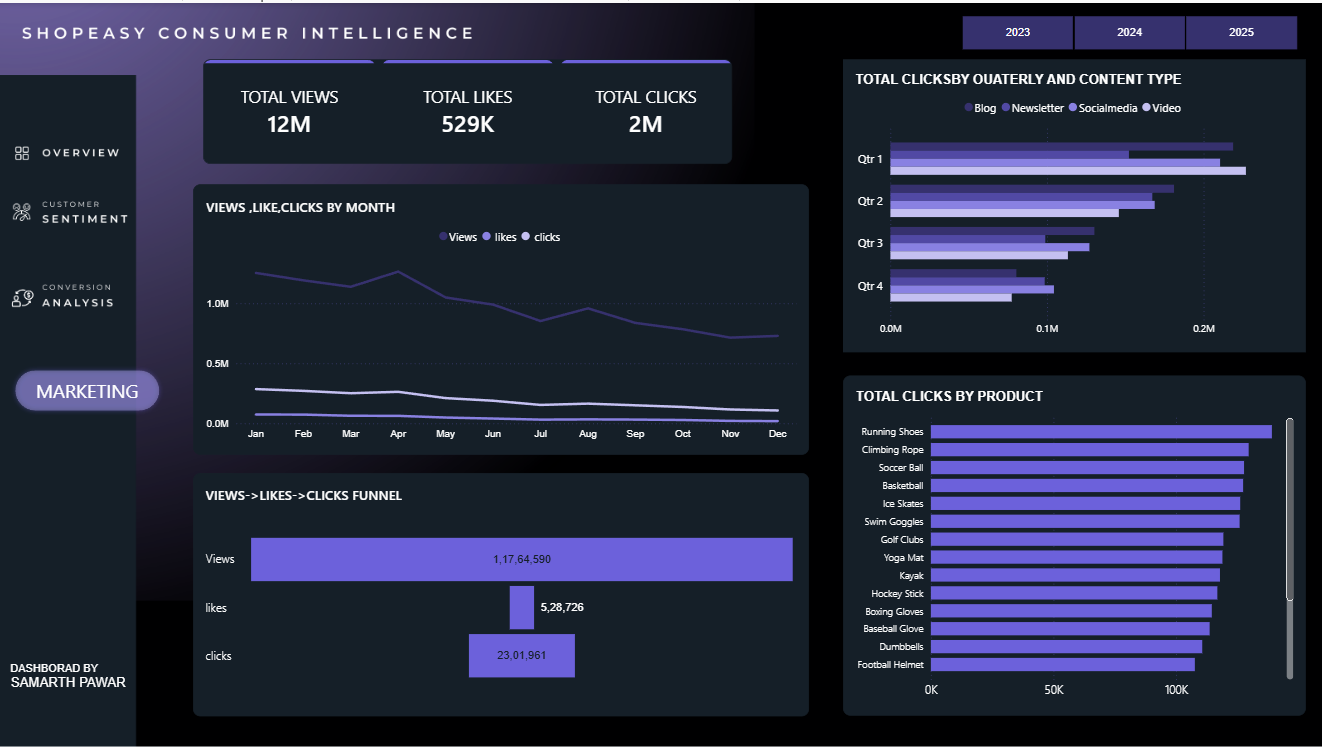

The page's visual inventory and layout, read from the dashboard file:
{"tool":"powerbi","page":{"name":"Marketing Performance","canvas":[1600,900],"ordinal":3},"visuals":[{"type":"shape","box":[235,566.7,743.3,293.3],"z":0},{"type":"cardVisual","fields":{"Data":["Sum(engagement_data_cleaned.Views)","Sum(engagement_data_cleaned.likes)","Sum(engagement_data_cleaned.clicks)"]},"box":[246.7,68.3,638.3,126.7],"z":1000},{"type":"lineChart","title":"VIEWS ,LIKE,CLICKS BY MONTH","fields":{"Y":["Sum(engagement_data_cleaned.Views)","Sum(engagement_data_cleaned.likes)","Sum(engagement_data_cleaned.clicks)"],"Category":["Calendar.MonthNameShort"]},"box":[235,218.3,743.3,326.7],"z":2000},{"type":"funnel","title":"VIEWS->LIKES->CLICKS FUNNEL","fields":{"Y":["Sum(engagement_data_cleaned.Views)","Sum(engagement_data_cleaned.likes)","Sum(engagement_data_cleaned.clicks)"]},"box":[235,566.7,743.3,293.3],"z":3000},{"type":"barChart","title":"TOTAL CLICKS BY PRODUCT","fields":{"Y":["Sum(engagement_data_cleaned.clicks)"],"Category":["products.ProductName"]},"box":[1020,450,558.3,410],"z":4000},{"type":"clusteredBarChart","title":"TOTAL CLICKSBY OUATERLY AND CONTENT TYPE ","fields":{"Category":["Calendar.Date.Variation.Date Hierarchy.Quarter"],"Y":["Sum(engagement_data_cleaned.clicks)"],"Series":["engagement_data_cleaned.ContentType"]},"box":[1020,68.3,558.3,353.3],"z":5000},{"type":"shape","box":[0,416.7,158.3,150],"z":6000},{"type":"shape","box":[0,421.7,215,90],"z":7000},{"type":"pageNavigator","box":[0,205,183.3,100],"z":8000},{"type":"pageNavigator","box":[0,305,183.3,100],"z":9000},{"type":"pageNavigator","box":[0,131.7,183.3,100],"z":10000},{"type":"slicer","fields":{"Values":["Calendar.Date.Variation.Date Hierarchy.Year"]},"box":[1142.6,13.1,442.6,44.3],"z":11000},{"type":"textbox","box":[0,794.7,158.3,86],"z":12000}]}

Visuals, with their boxes in screenshot pixels (x1, y1, x2, y2), scaled from the page's 1600x900 canvas onto the 1322x747 screenshot:
shape: left=194, top=470, right=808, bottom=714
cardVisual - Sum(engagement_data_cleaned.Views) x Sum(engagement_data_cleaned.likes): left=204, top=57, right=731, bottom=162
"VIEWS ,LIKE,CLICKS BY MONTH" lineChart: left=194, top=181, right=808, bottom=452
"VIEWS->LIKES->CLICKS FUNNEL" funnel: left=194, top=470, right=808, bottom=714
"TOTAL CLICKS BY PRODUCT" barChart: left=843, top=374, right=1304, bottom=714
"TOTAL CLICKSBY OUATERLY AND CONTENT TYPE " clusteredBarChart: left=843, top=57, right=1304, bottom=350
shape: left=0, top=346, right=131, bottom=470
shape: left=0, top=350, right=178, bottom=425
pageNavigator: left=0, top=170, right=151, bottom=253
pageNavigator: left=0, top=253, right=151, bottom=336
pageNavigator: left=0, top=109, right=151, bottom=192
slicer - Calendar.Date.Variation.Date Hierarchy.Year: left=944, top=11, right=1310, bottom=48
textbox: left=0, top=660, right=131, bottom=731
